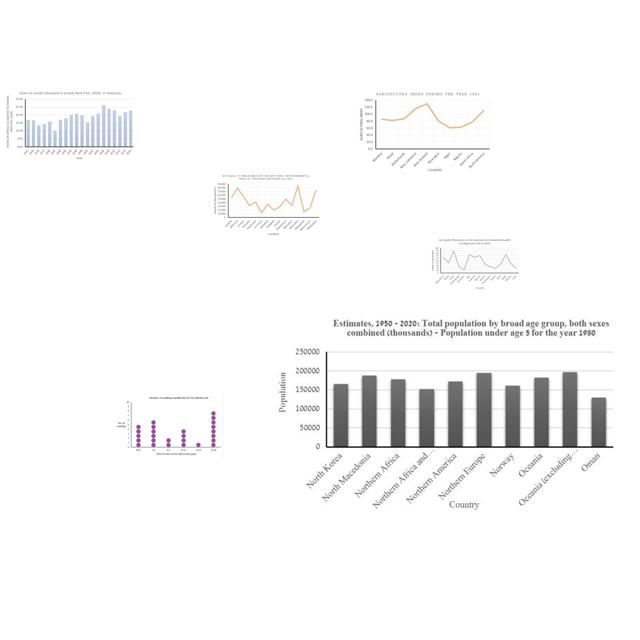Graph: (276, 316, 625, 515), (356, 90, 493, 172), (5, 89, 137, 163), (211, 173, 321, 239), (114, 394, 224, 458), (429, 237, 521, 292)
